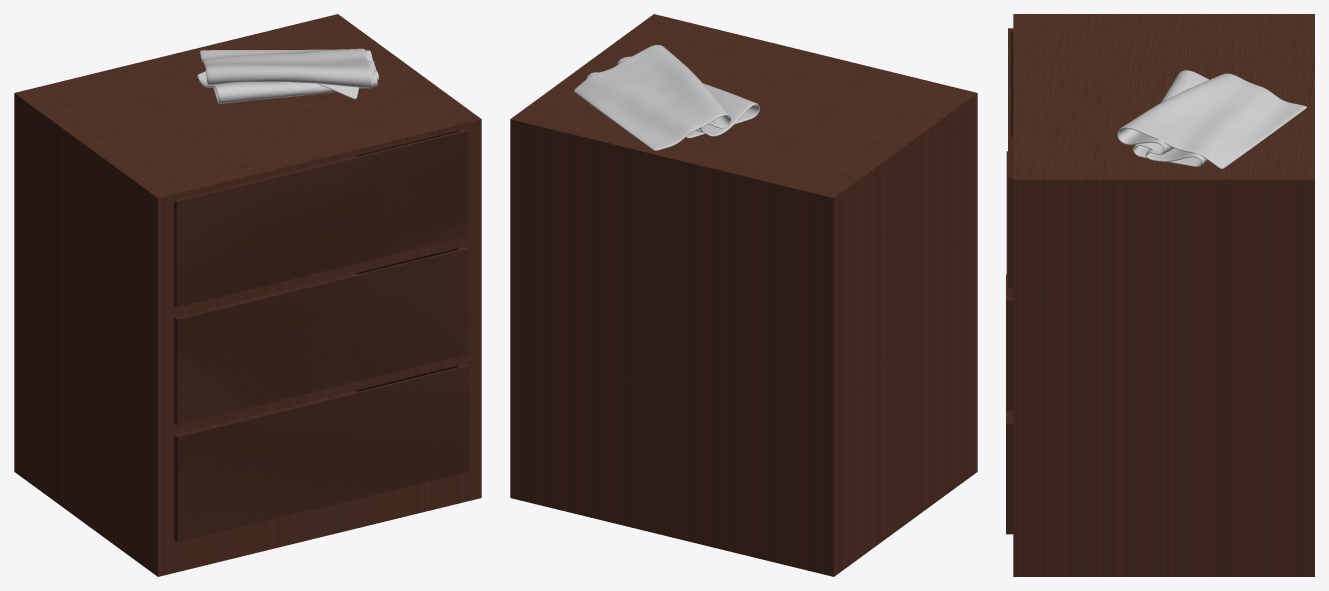
3 views of the same model, side by side, from view 1: azimuth 30°, elevation 25°; view 2: azimuth 150°, elevation 25°; view 3: azimuth 270°, elevation 25° (orthographic). The views are drawn at different scales.
Visible parts, largest first — view 1: Cabinet_0, Towel_1; view 2: Cabinet_0, Towel_1; view 3: Cabinet_0, Towel_1.
Part boxes in pixels (box(x1,y1,x2,y2)): Cabinet_0: box(14, 14, 481, 576); Towel_1: box(197, 48, 378, 103); Cabinet_0: box(510, 14, 977, 576); Towel_1: box(574, 45, 759, 150); Cabinet_0: box(1006, 14, 1314, 576); Towel_1: box(1117, 70, 1306, 168).
Size of what is drawn, in the model's own units: 2.6 by 3.08 by 2.05.
